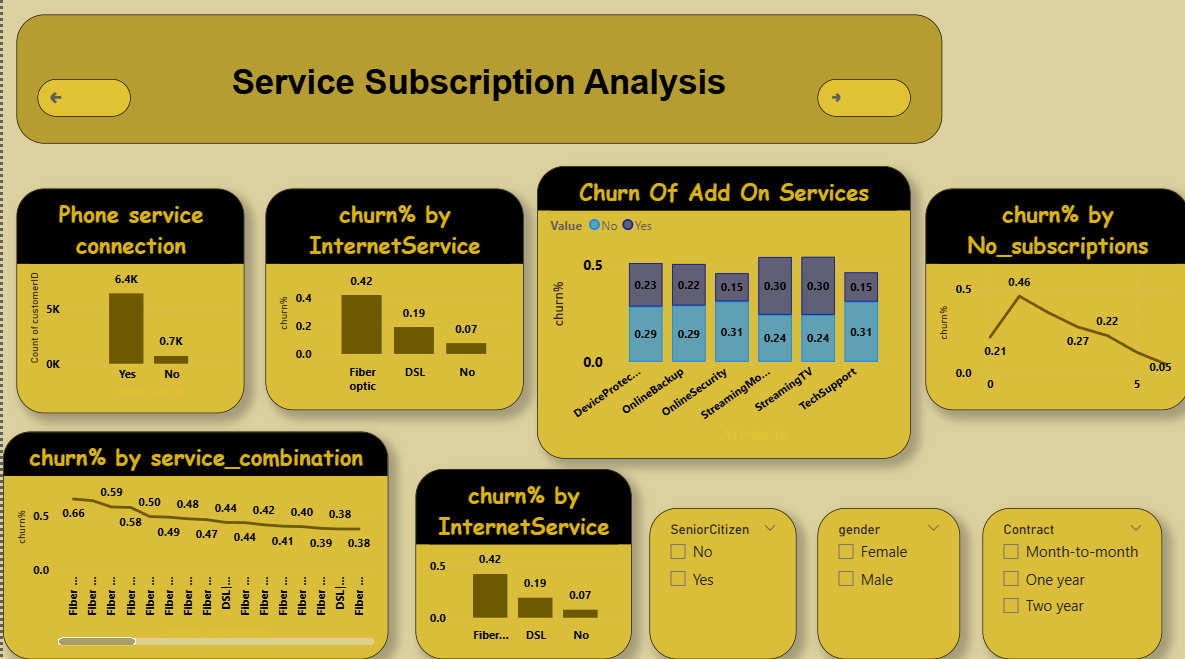

What the dashboard file says about the page in this screenshot:
{"tool":"powerbi","page":{"name":"Page 2","canvas":[1280,720],"ordinal":1},"visuals":[{"type":"columnChart","title":"Phone service connection","fields":{"Category":["WA_Fn-UseC_-Telco-Customer-Churn.PhoneService"],"Y":["CountNonNull(WA_Fn-UseC_-Telco-Customer-Churn.customerID)"]},"box":[14.6,212.1,246.1,242.9],"z":0},{"type":"slicer","fields":{"Values":["customer.gender"]},"box":[879.2,557,153.8,163.5],"z":1000},{"type":"columnChart","fields":{"Category":["WA_Fn-UseC_-Telco-Customer-Churn.InternetService"],"Y":["WA_Fn-UseC_-Telco-Customer-Churn.churn%"]},"box":[283.4,212.1,278.5,239.6],"z":2000},{"type":"columnChart","title":"Churn Of Add On Services","fields":{"Category":["Add on services.Attribute"],"Y":["customer.churn%"],"Series":["Add on services.Value"]},"box":[576.4,187.8,403.2,315.7],"z":3000},{"type":"lineChart","fields":{"Category":["customer.service_combination"],"Y":["customer.churn%"]},"box":[0,474.4,416.1,246.1],"z":4000},{"type":"lineChart","fields":{"Y":["customer.churn%"],"Category":["customer.churn_NO_services"]},"box":[995.8,212.1,285,239.6],"z":5000},{"type":"columnChart","fields":{"Category":["customer.InternetService"],"Y":["customer.churn%"]},"box":[445.3,514.9,233.2,205.6],"z":6000},{"type":"slicer","fields":{"Values":["customer.Contract"]},"box":[1057.4,557,194.3,163.5],"z":7000},{"type":"slicer","fields":{"Values":["customer.SeniorCitizen"]},"box":[697.9,557,158.7,163.5],"z":8000},{"type":"textbox","box":[14.6,24.3,999.1,139.3],"z":9000},{"type":"actionButton","box":[879.2,93.9,100.4,40.5],"z":9001},{"type":"actionButton","box":[37.2,93.9,100.4,40.5],"z":9002}]}

Visuals, with their boxes in screenshot pixels (x1, y1, x2, y2), scaled from the page's 1280x720 canvas onto the 1185x659 screenshot:
"Phone service connection" columnChart: pyautogui.locateOnScreen(14, 194, 241, 416)
slicer - customer.gender: pyautogui.locateOnScreen(814, 510, 956, 658)
columnChart - WA_Fn-UseC_-Telco-Customer-Churn.InternetService x WA_Fn-UseC_-Telco-Customer-Churn.churn%: pyautogui.locateOnScreen(262, 194, 520, 413)
"Churn Of Add On Services" columnChart: pyautogui.locateOnScreen(534, 172, 907, 461)
lineChart - customer.service_combination x customer.churn%: pyautogui.locateOnScreen(0, 434, 385, 658)
lineChart - customer.churn% x customer.churn_NO_services: pyautogui.locateOnScreen(922, 194, 1184, 413)
columnChart - customer.InternetService x customer.churn%: pyautogui.locateOnScreen(412, 471, 628, 658)
slicer - customer.Contract: pyautogui.locateOnScreen(979, 510, 1159, 658)
slicer - customer.SeniorCitizen: pyautogui.locateOnScreen(646, 510, 793, 658)
textbox: pyautogui.locateOnScreen(14, 22, 938, 150)
actionButton: pyautogui.locateOnScreen(814, 86, 907, 123)
actionButton: pyautogui.locateOnScreen(34, 86, 127, 123)
